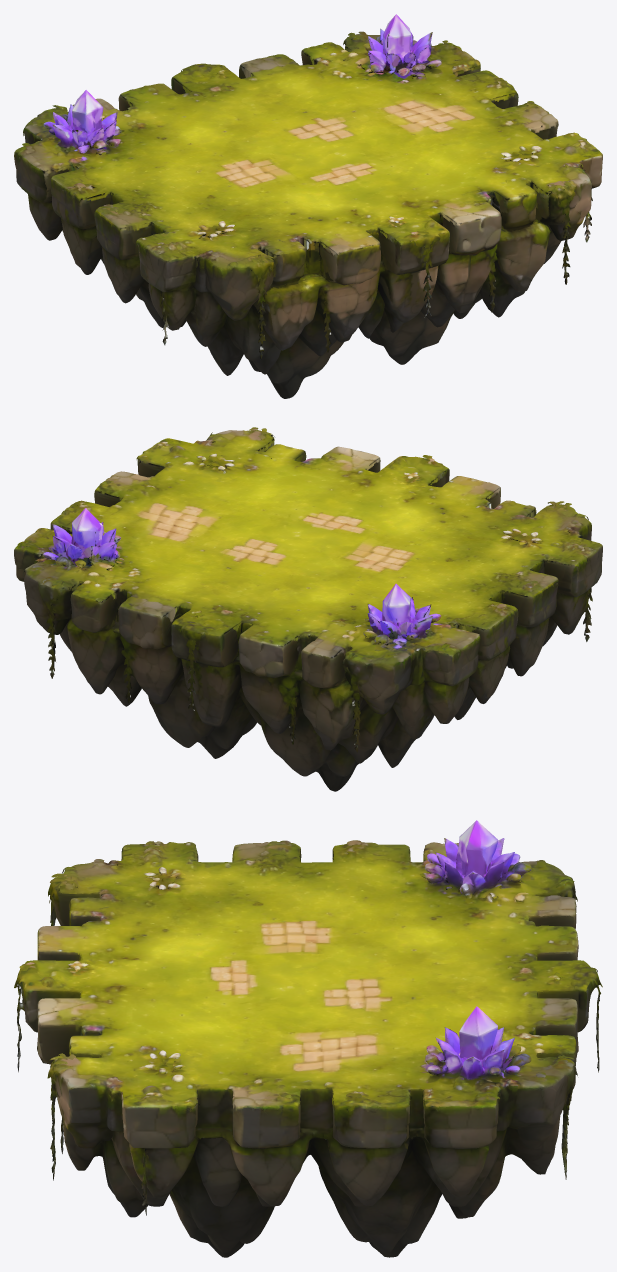
Rendered from base_basic_shaded.glb.
The picture shows the model from 3 angles, top to bottom: view 1: azimuth 30°, elevation 25°; view 2: azimuth 150°, elevation 25°; view 3: azimuth 270°, elevation 25°; orthographic projection. The views are drawn at different scales.
Parts seen in each view (by area): view 1: model; view 2: model; view 3: model.
Part boxes in pixels (left/top/right/bottom): model: left=14, top=14, right=602, bottom=398; model: left=14, top=427, right=602, bottom=791; model: left=14, top=820, right=602, bottom=1257.
Bounding box in the file's own units: 1.9 × 1.05 × 1.78.
Materials: 1 (1 with a texture image).
